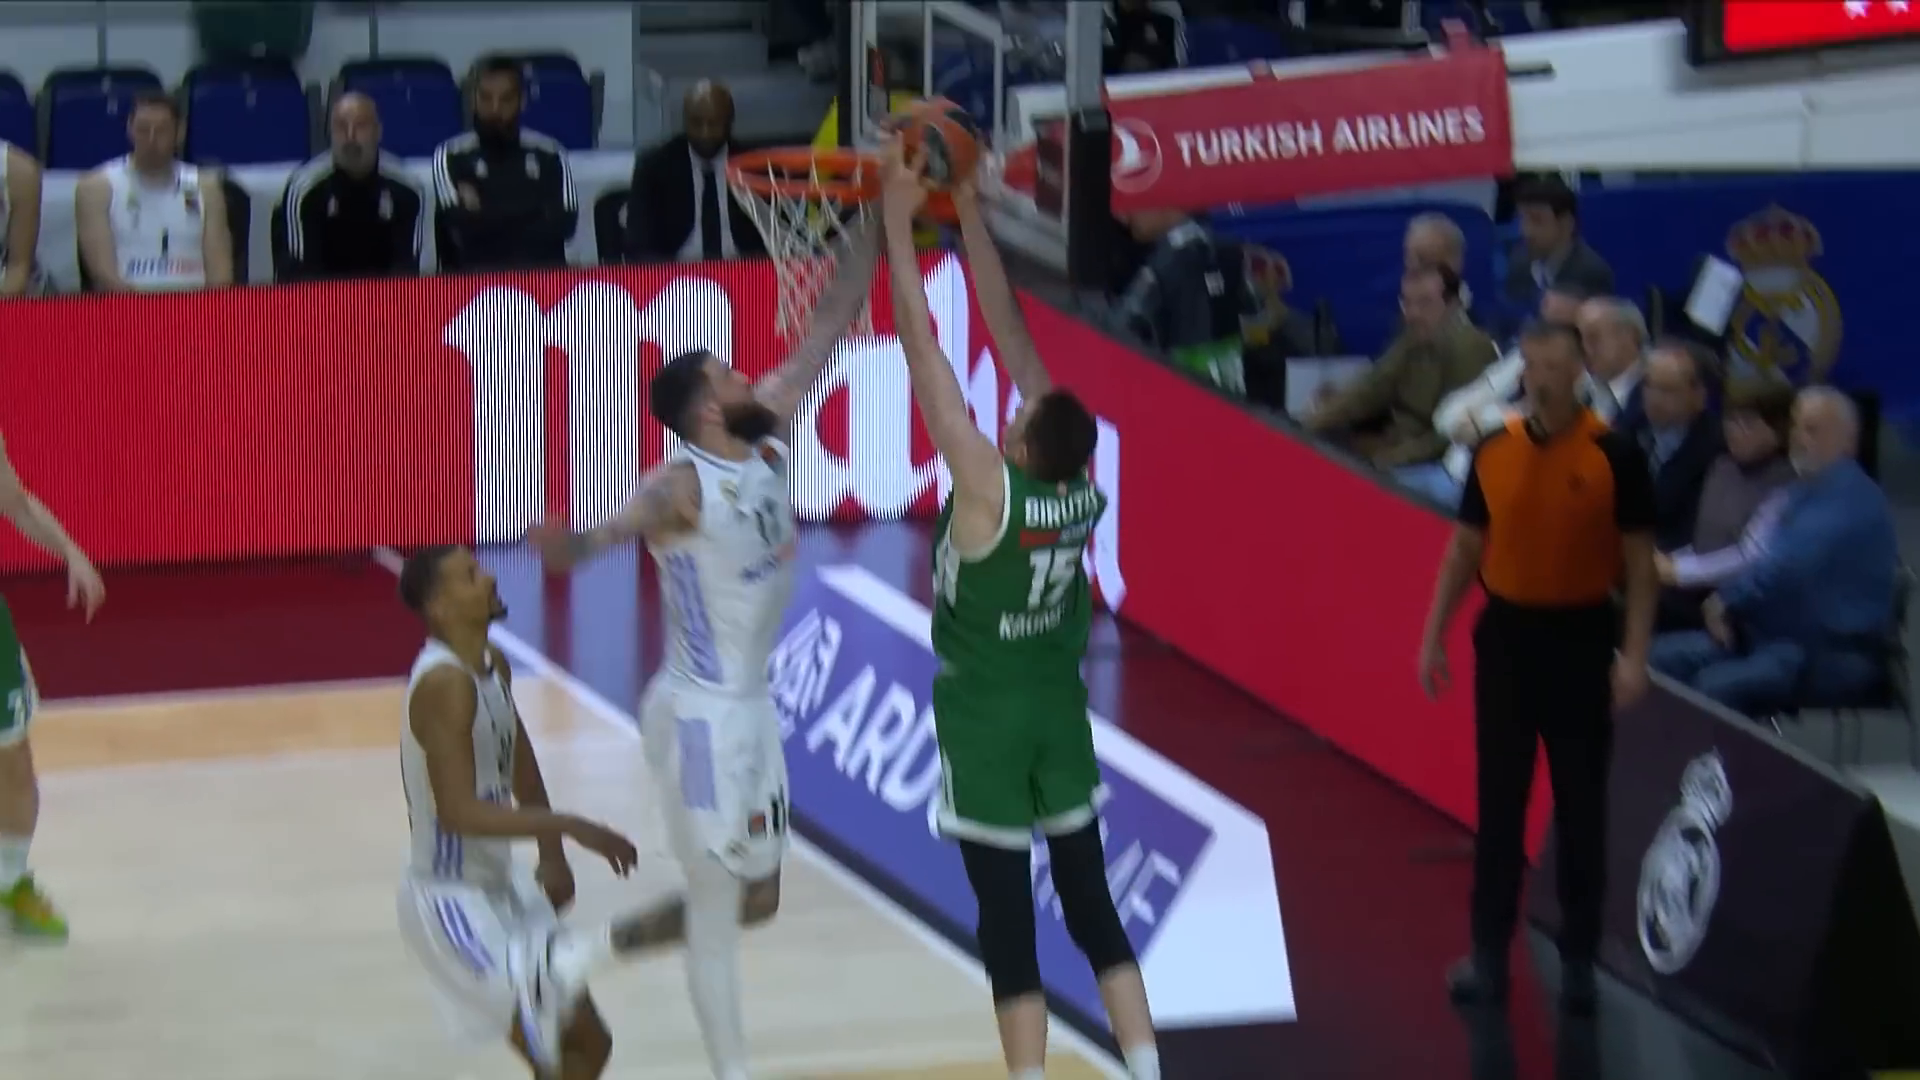ball: (866, 94, 993, 196)
net: (719, 145, 909, 344)
